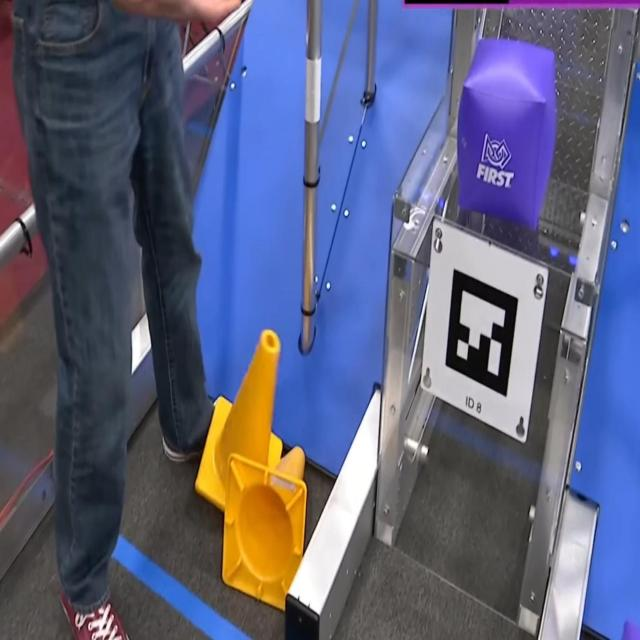frc_cone: (198, 329, 281, 512), (222, 443, 308, 607)
frc_cube: (459, 38, 555, 230)
